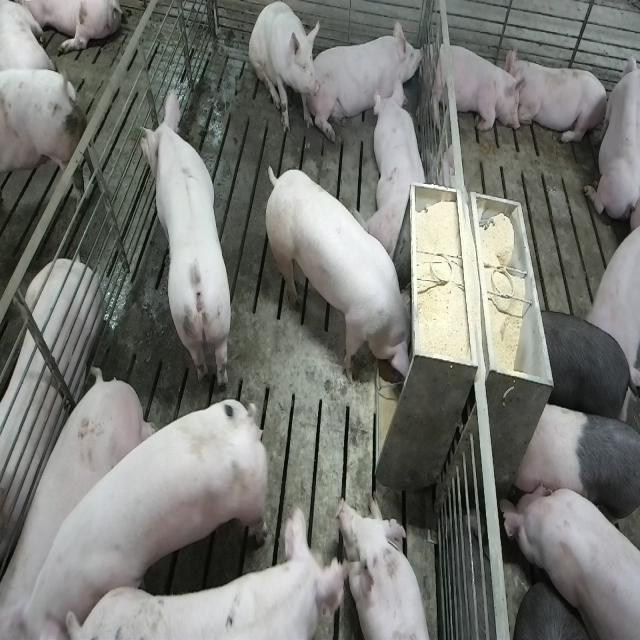Feeding: (270, 166, 421, 392)
Lateral_lying: (0, 257, 103, 594)
Sitting: (249, 2, 320, 137)
Standing: (10, 382, 273, 632), (0, 370, 154, 640), (138, 81, 233, 386), (500, 477, 638, 640), (510, 400, 638, 544), (537, 306, 635, 425)
Sternal_lying: (214, 503, 347, 640), (334, 493, 434, 640), (314, 12, 424, 138), (368, 79, 430, 257), (425, 36, 525, 137), (584, 42, 637, 227), (510, 51, 610, 149)
